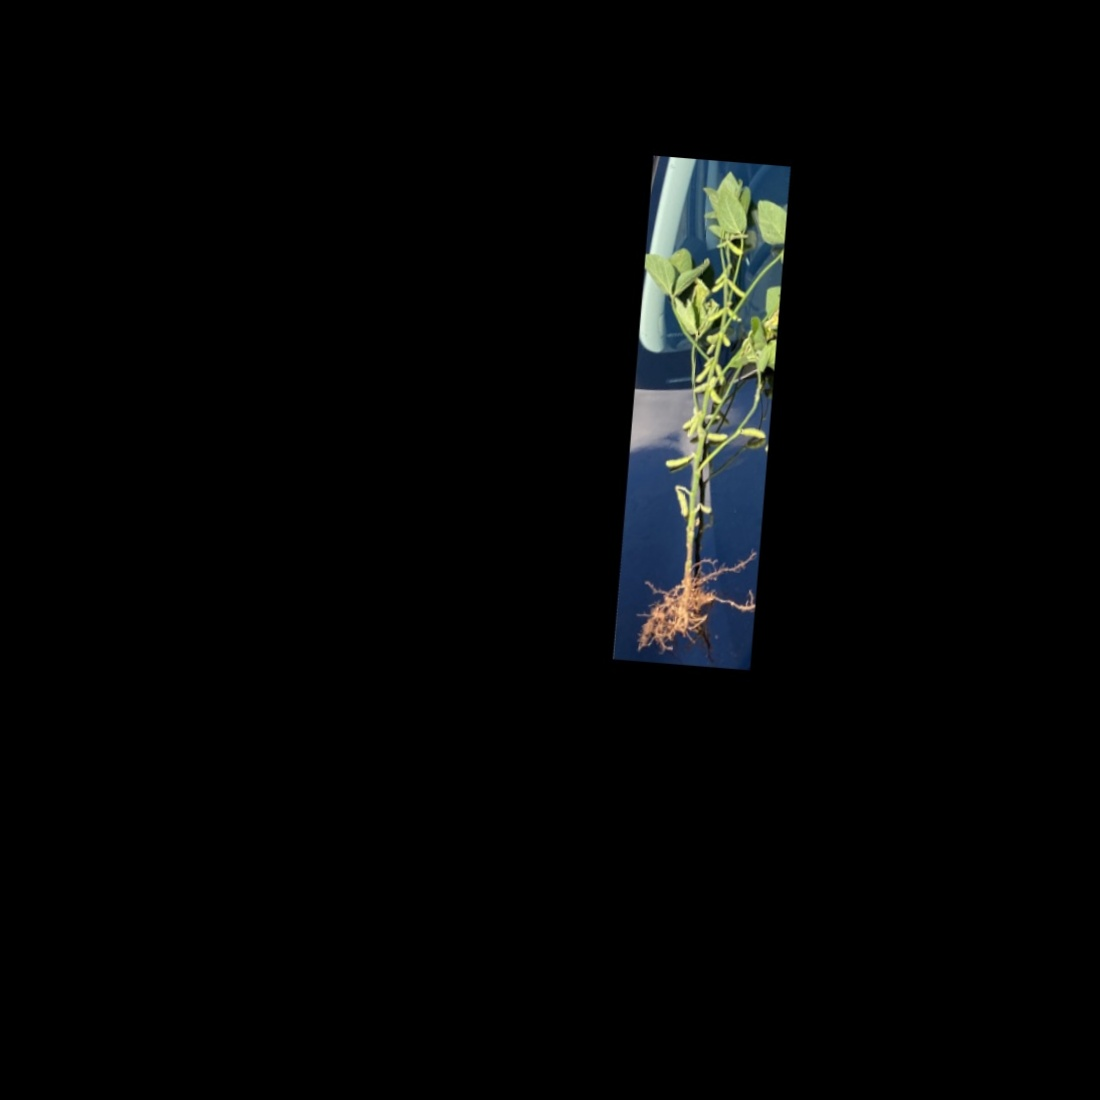pod: (660, 449, 693, 474), (692, 357, 718, 388), (671, 487, 691, 519), (725, 279, 750, 299), (737, 424, 767, 441), (724, 238, 746, 258), (702, 429, 731, 444), (708, 277, 727, 297)
soy: (614, 170, 787, 652)
